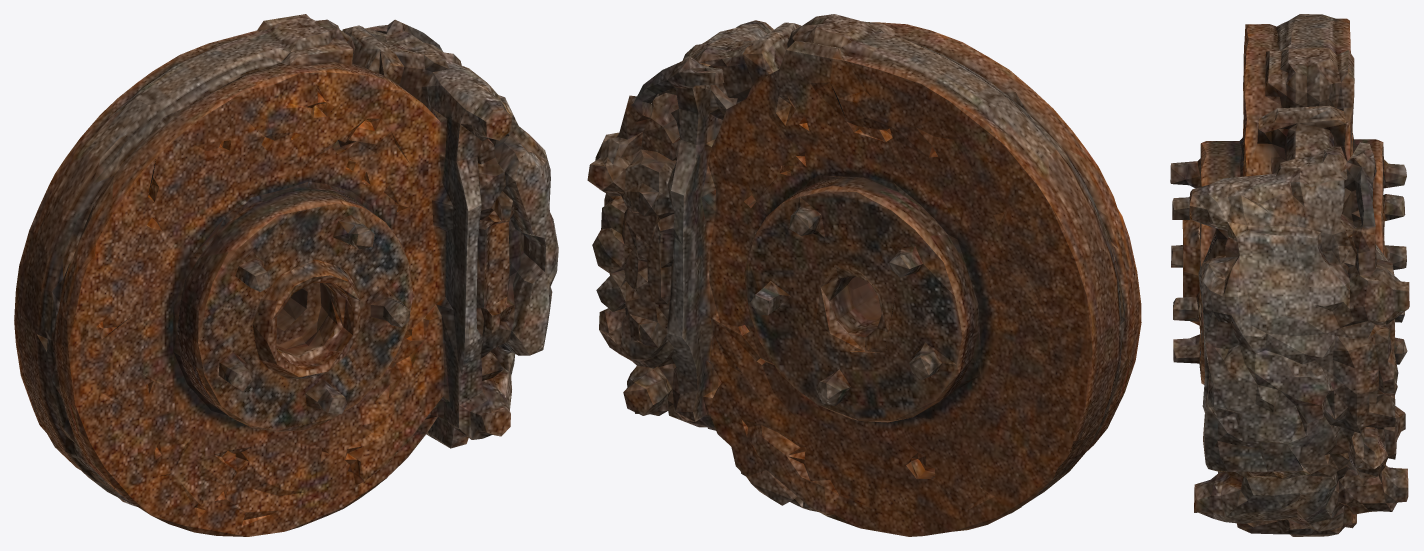
The model's file is brakes_broken.glb.
3 renders of one model, left to right at view 1: azimuth 30°, elevation 25°; view 2: azimuth 150°, elevation 25°; view 3: azimuth 270°, elevation 25°, orthographic. The views are drawn at different scales.
Visible parts, largest first — view 1: brakes_broken; view 2: brakes_broken; view 3: brakes_broken.
Boxes of the visible parts, x1=… form: brakes_broken: x1=14, y1=14, x2=558, y2=536; brakes_broken: x1=587, y1=14, x2=1141, y2=536; brakes_broken: x1=1170, y1=14, x2=1409, y2=536.
Size of the model in its own units: 1.9 by 1.77 by 0.824.
Materials: 1 (1 with a texture image).
